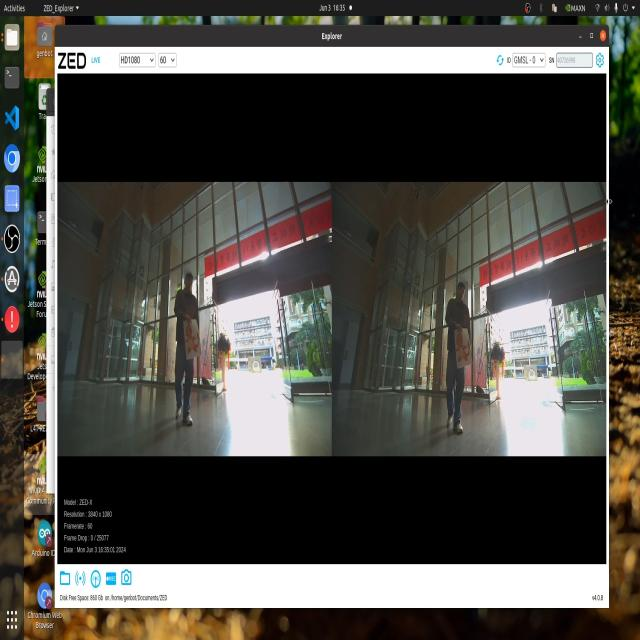red: (175, 314, 207, 359), (453, 320, 475, 363)
